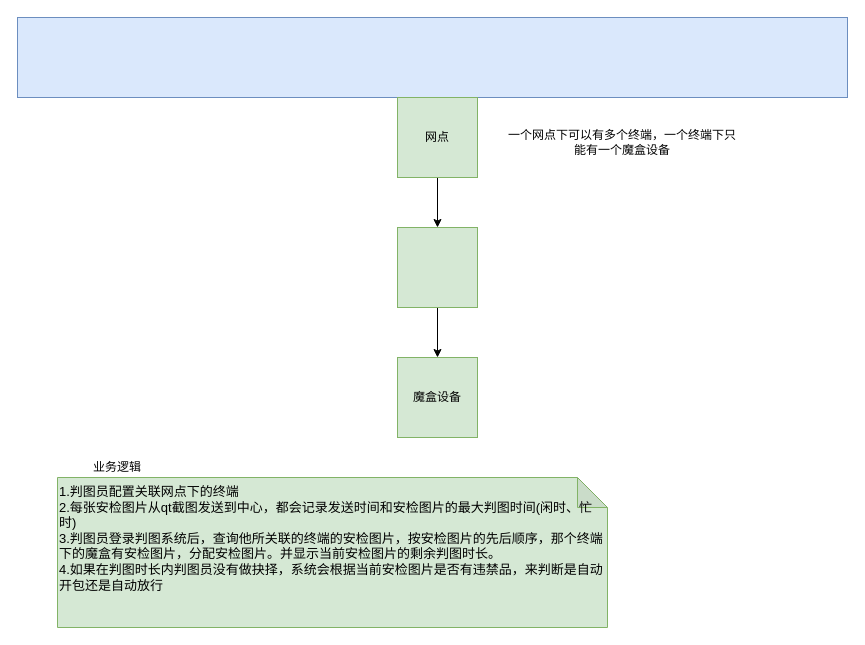
This 865x645 diagram has some shape labels left out. Here are the shapes that lost their labels. From the top down, the box of each, then its label:
(16, 16, 848, 98): 集中判图
(396, 226, 478, 308): 终端(虚拟的)
